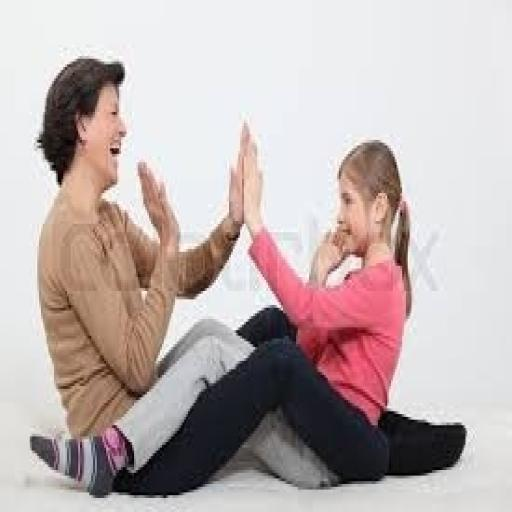clapping: (30, 53, 467, 501)
